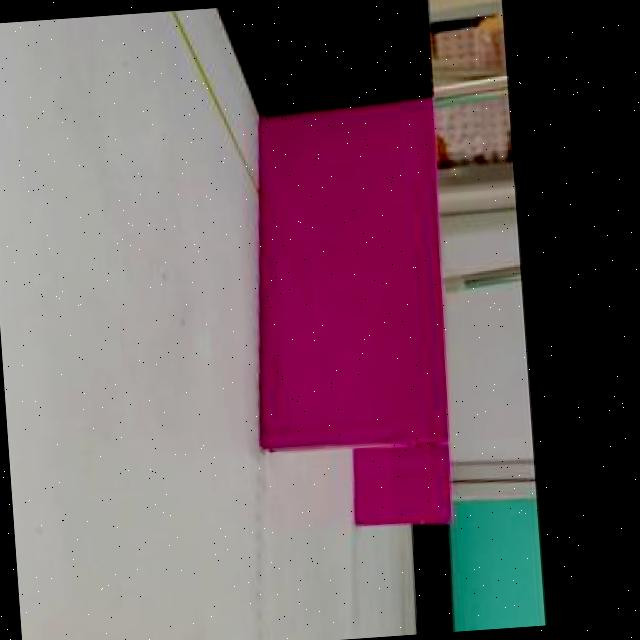xparking: (246, 110, 444, 448), (352, 446, 451, 522)
